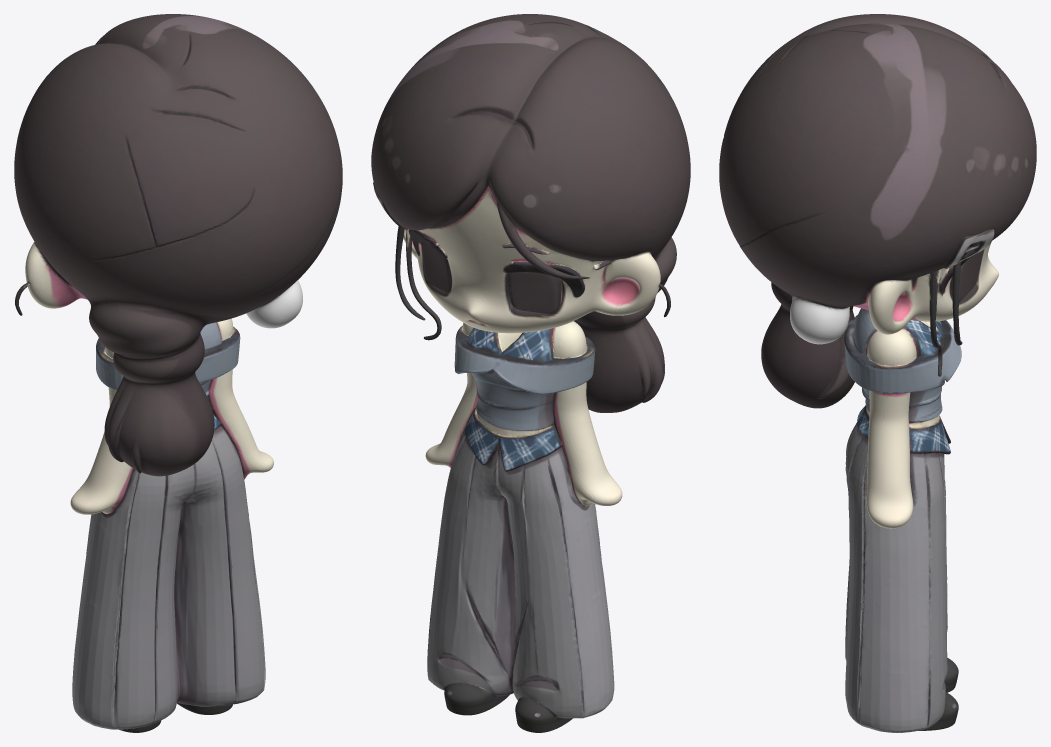
File: SM_A_Npc_Intern1.glb
3 renders of one model, left to right at view 1: azimuth 30°, elevation 25°; view 2: azimuth 150°, elevation 25°; view 3: azimuth 270°, elevation 25°, orthographic. The views are drawn at different scales.
Parts seen in each view (by area): view 1: SM_A_Npc_Intern1; view 2: SM_A_Npc_Intern1; view 3: SM_A_Npc_Intern1.
Part boxes in pixels (box(x1,y1,x2,y2)): SM_A_Npc_Intern1: box(14, 14, 342, 732); SM_A_Npc_Intern1: box(371, 14, 690, 732); SM_A_Npc_Intern1: box(719, 14, 1036, 732).
Bounding box in the file's own units: 0.5844 × 1.3 × 0.5526.
1 material, 1 textured.
